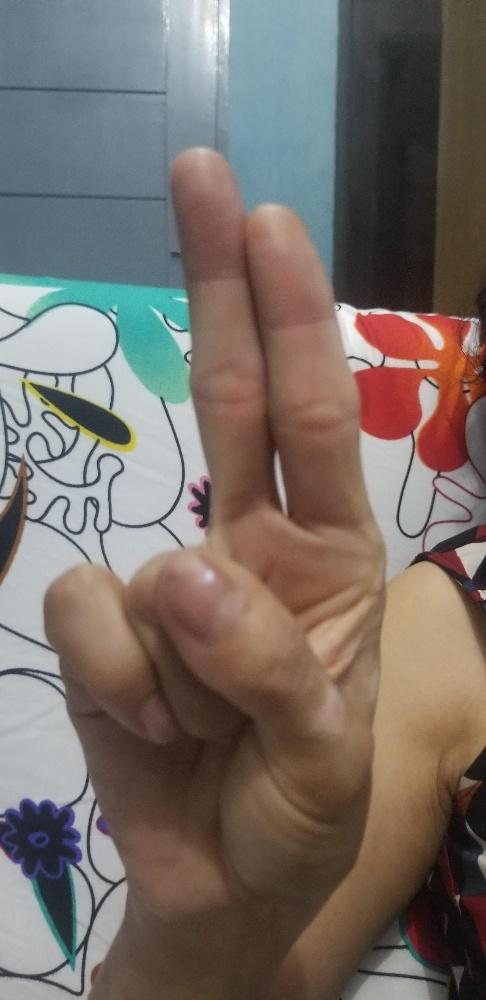u: (39, 140, 391, 936)
